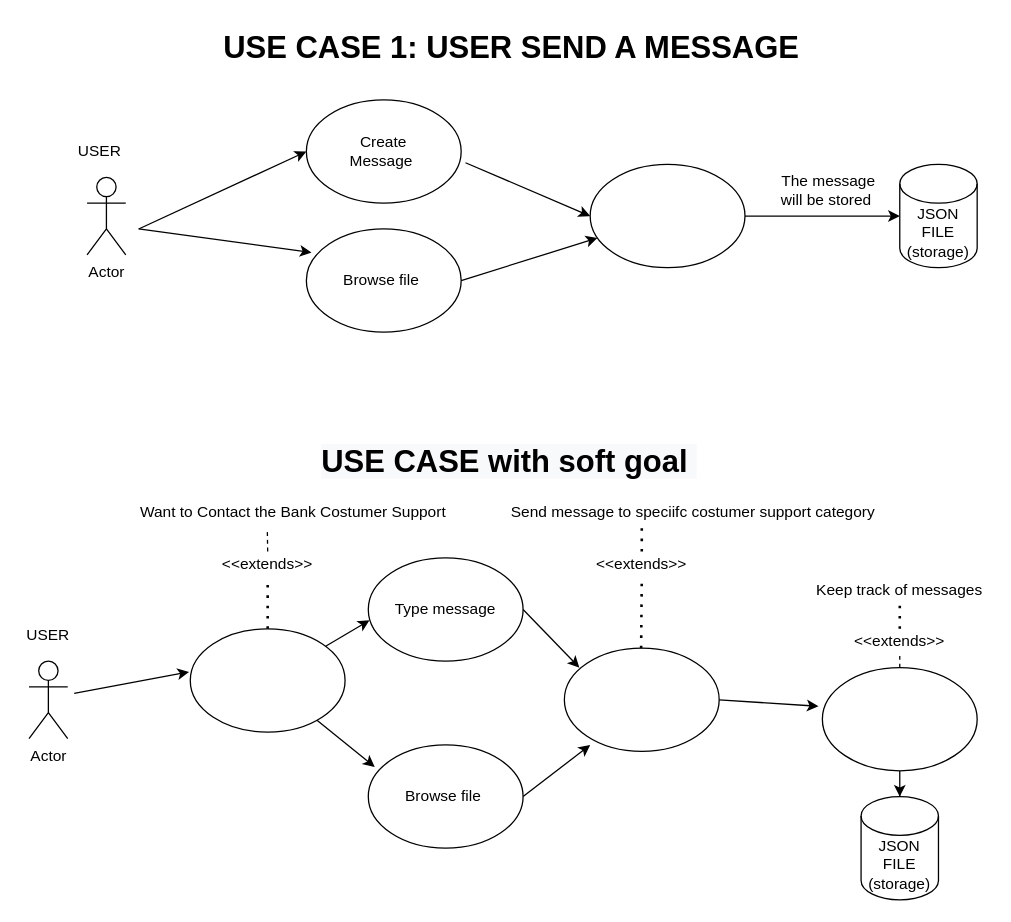
This 1011x922 diagram has some shape labels left out. Each missing label, with the box of its shape:
Choose if type a message or import it from a document: (189, 628, 345, 732)
Send Message / Trigger elaboration process: (589, 163, 745, 268)
Send Message and trigger automatically the validation: (563, 647, 719, 751)
Store message: (821, 666, 977, 771)
